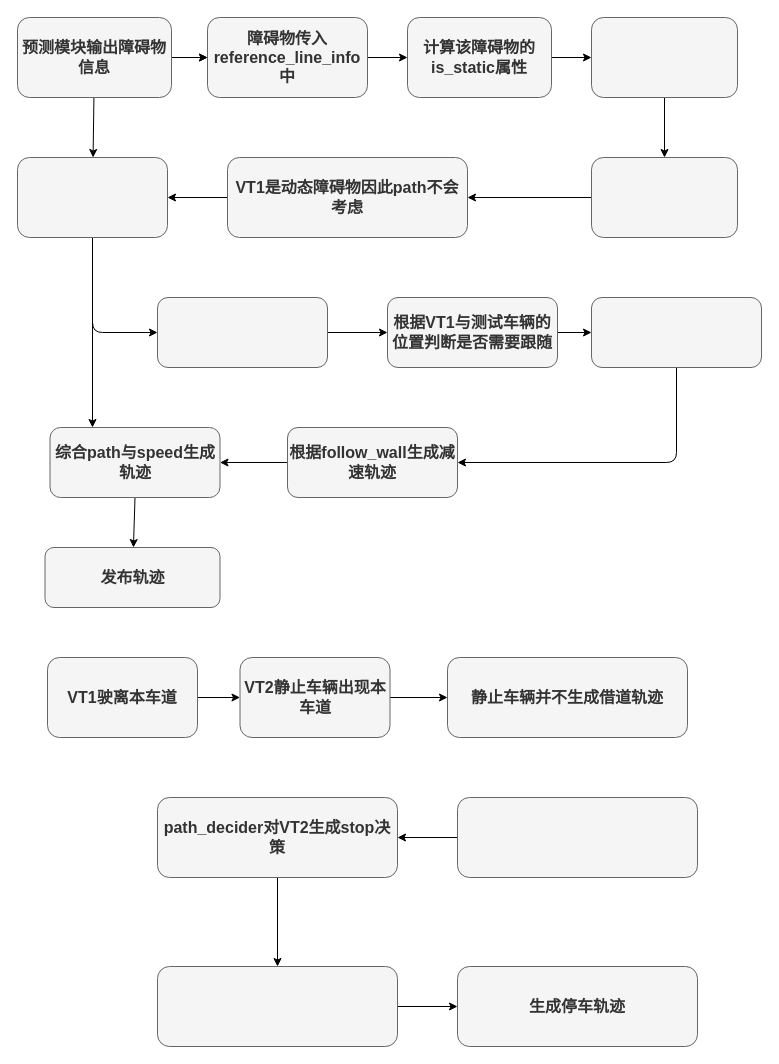
This 779x1064 diagram has some shape labels left out. The shapes that lost their labels are listed below. From the top down, each one's centre as x and y in pixels, then its label:
pixel 664 57: 计算该障碍物在引导线上的sl_boundary与st_boundary
pixel 92 197: 生成path
pixel 664 197: 根据reference_line_info规划轨迹
pixel 242 332: 根据path计算VT1的st_boundary()
pixel 676 332: 若跟随则生成follow_wall
pixel 577 837: VT2阻挡lane因此形成终点在VT2前方的path
pixel 277 1006: 根据stop_wall生成st_bound
